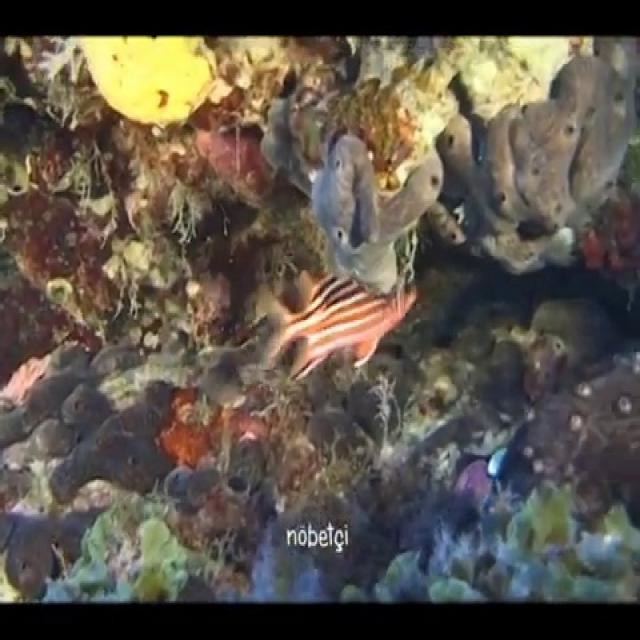Asker Baligi: (261, 268, 419, 384)
